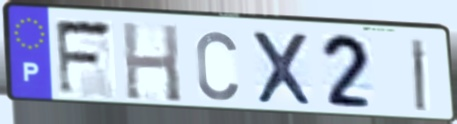2: (317, 31, 379, 113)
C: (193, 28, 241, 103)
F: (52, 17, 117, 99)
H: (119, 19, 185, 105)
I: (408, 36, 428, 114)
X: (248, 27, 317, 109)
